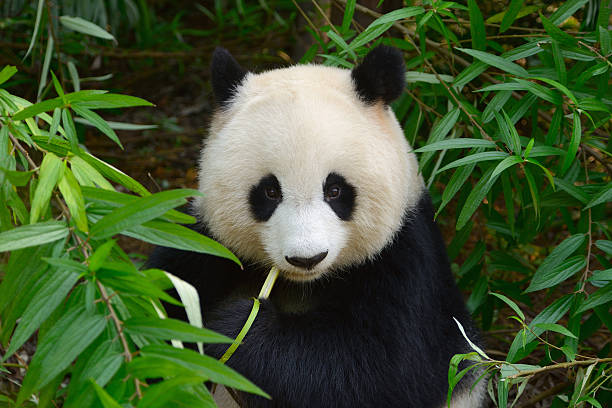panda: (163, 31, 446, 289)
